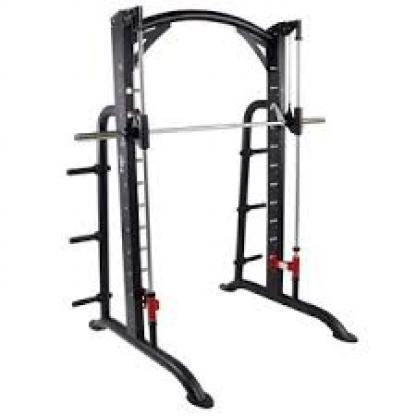smith machine: (68, 5, 362, 409)
